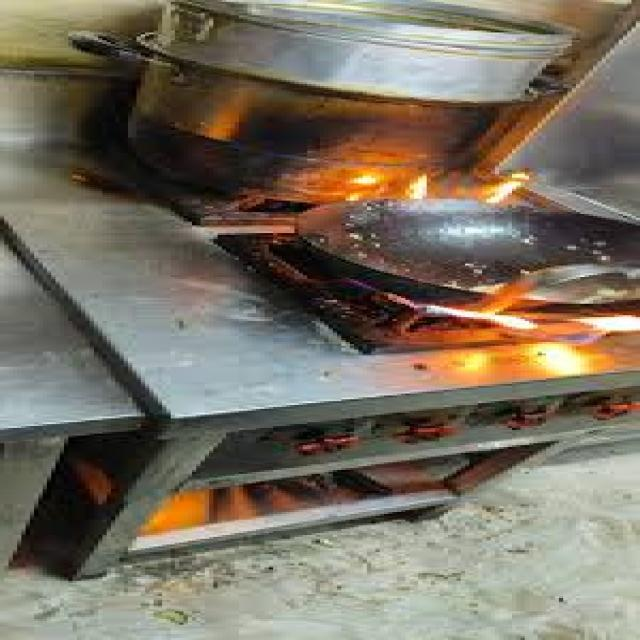fire: (426, 305, 539, 330), (485, 173, 531, 203)
